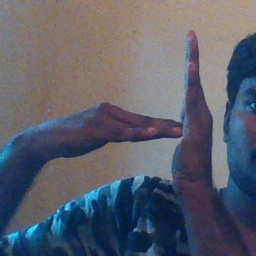Z: (101, 27, 220, 197)
